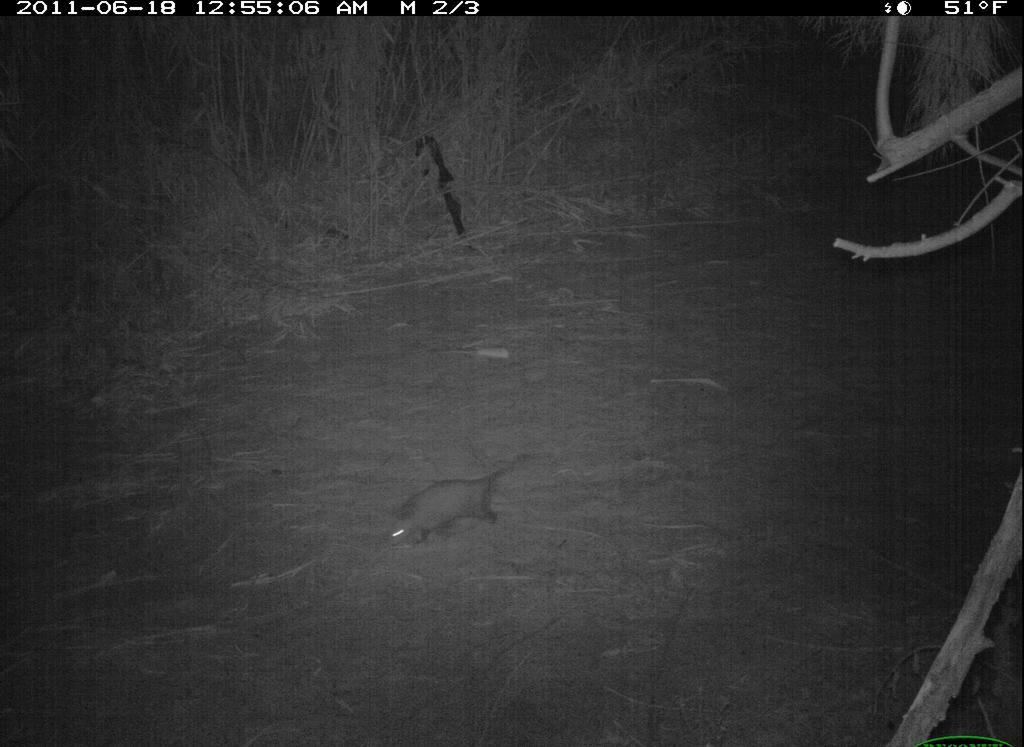opossum: (376, 450, 543, 562)
